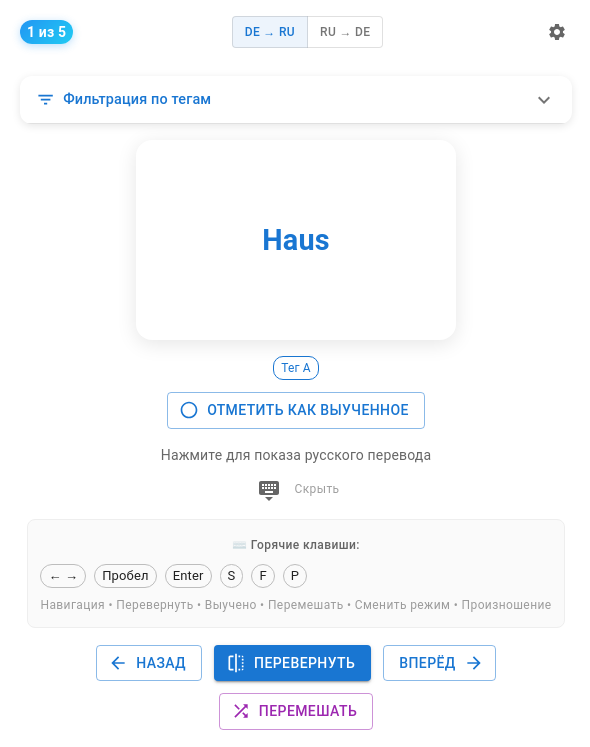
Scenario: UniversalCardViewer learning session › adding a card resets the session set
The width and height of the screenshot is (590, 747).
Expected: the text "1 из 5" is shown, [27,24,66,40]
Click the button "Вперёд": (439, 663) [383,644,496,681]
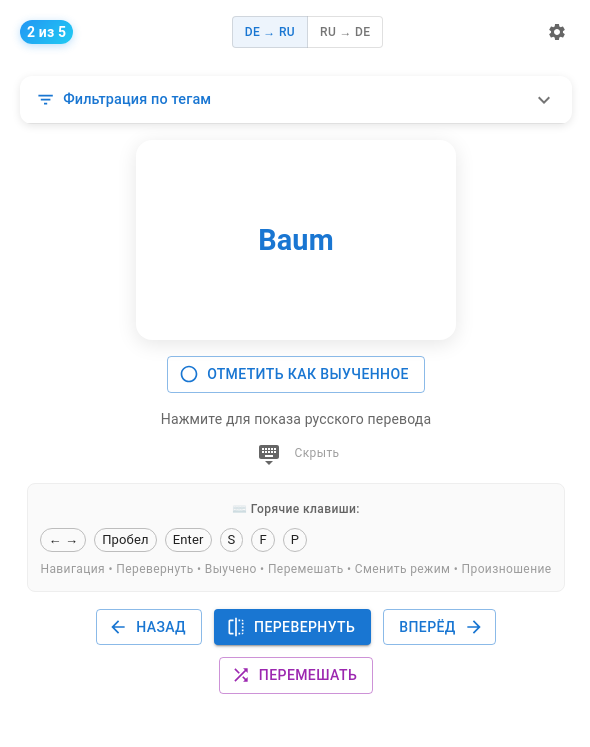
Click the button "Вперёд": (439, 627) [383,608,496,645]
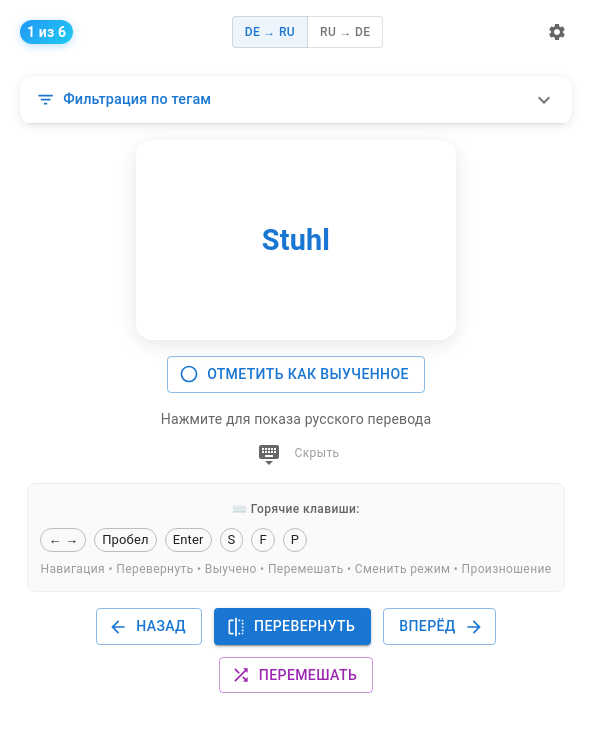
Result: the text "1 из 6" is shown at [27,24,66,40]
Result: the heading "Stuhl" is shown at [262,223,330,257]
